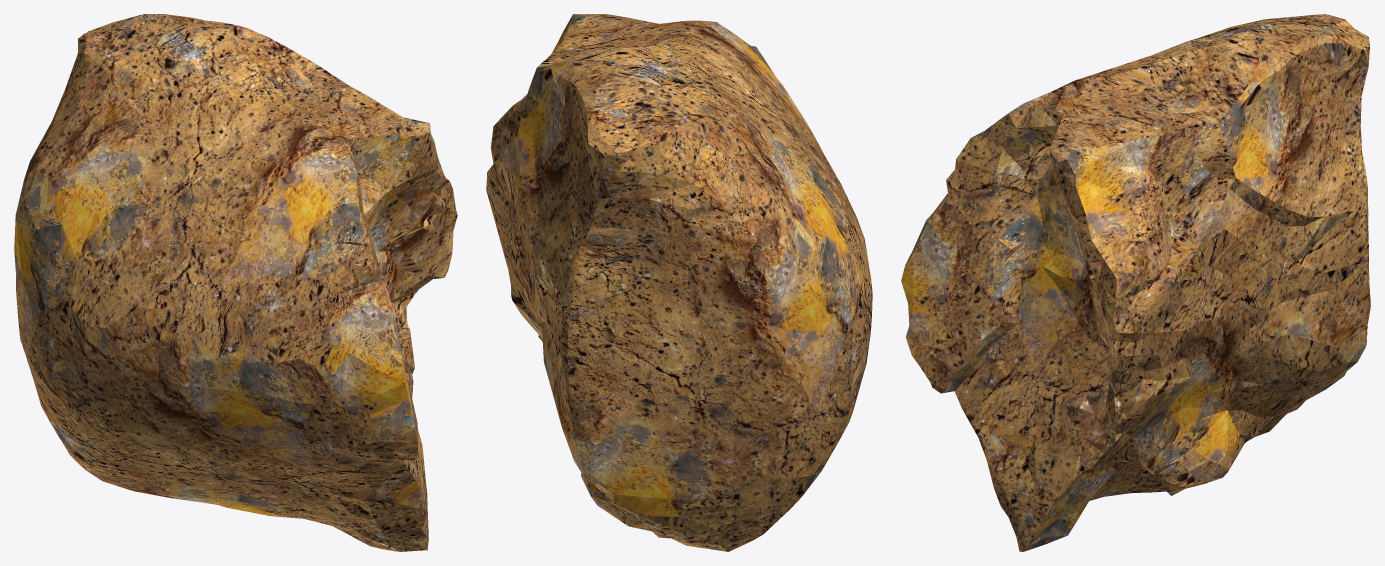
The model's file is GAL_Rock-2.glb.
3 renders of one model, left to right at view 1: azimuth 30°, elevation 25°; view 2: azimuth 150°, elevation 25°; view 3: azimuth 270°, elevation 25°, orthographic. The views are drawn at different scales.
Parts seen in each view (by area): view 1: tmp04gl6ewv.ply; view 2: tmp04gl6ewv.ply; view 3: tmp04gl6ewv.ply.
Boxes of the visible parts, box(x1,y1,x2,y2) form: tmp04gl6ewv.ply: box(14, 14, 457, 551); tmp04gl6ewv.ply: box(486, 14, 872, 551); tmp04gl6ewv.ply: box(901, 14, 1370, 551).
Bounding box in the file's own units: 1.9 × 2.29 × 2.09.
1 material, 1 textured.
